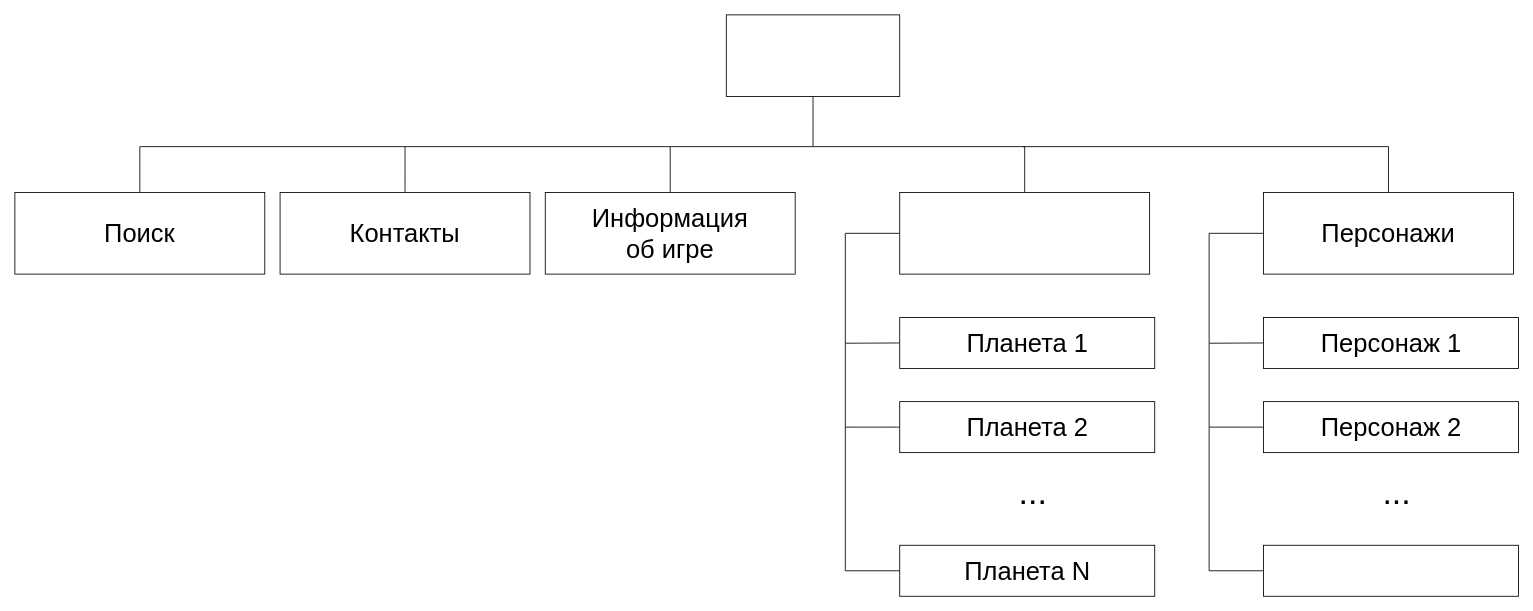
Some shapes in this 1533 by 611 pixel diagram are drawn without their labels. Each missing label, with the centre of its shape:
Главная: [812,55]
Персонаж N: [1391,570]
Планеты: [1024,233]
